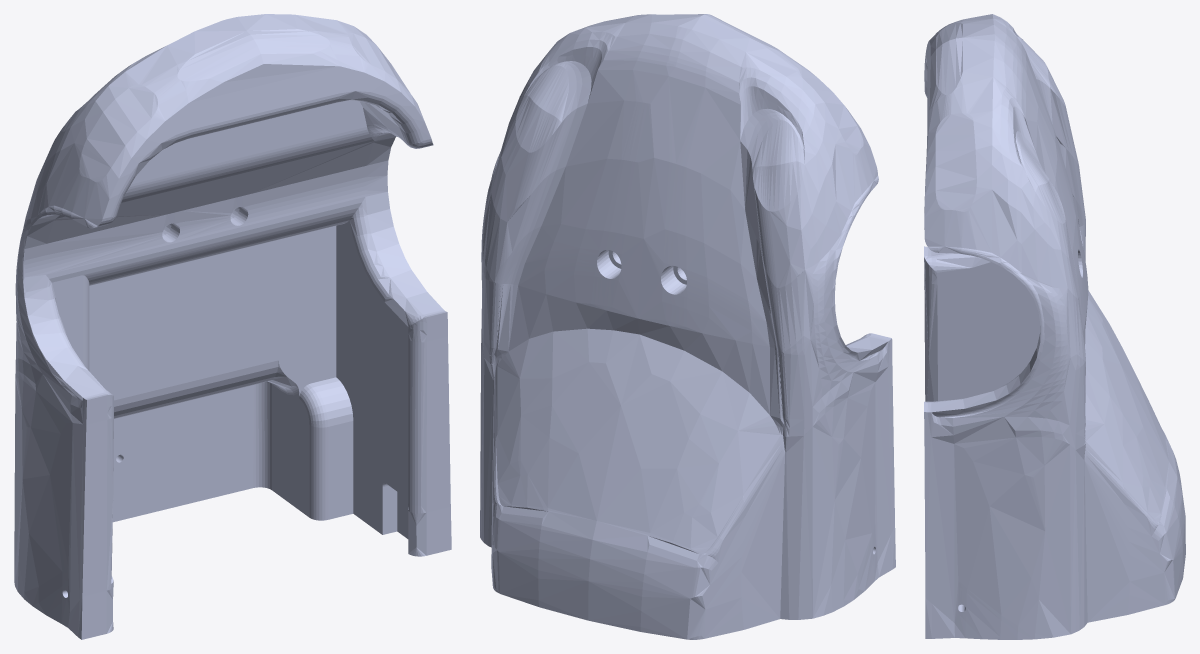
File: porshefront.dae
The picture shows the model from 3 angles, left to right: view 1: azimuth 30°, elevation 25°; view 2: azimuth 150°, elevation 25°; view 3: azimuth 270°, elevation 25°; orthographic projection. The views are drawn at different scales.
Parts seen in each view (by area): view 1: node0; view 2: node0; view 3: node0.
Part boxes in pixels (bbox=[...]): node0: bbox=[14, 14, 451, 639]; node0: bbox=[480, 14, 895, 639]; node0: bbox=[924, 14, 1185, 639].
Size of the model in its own units: 0.1265 by 0.0814 by 0.1772.
